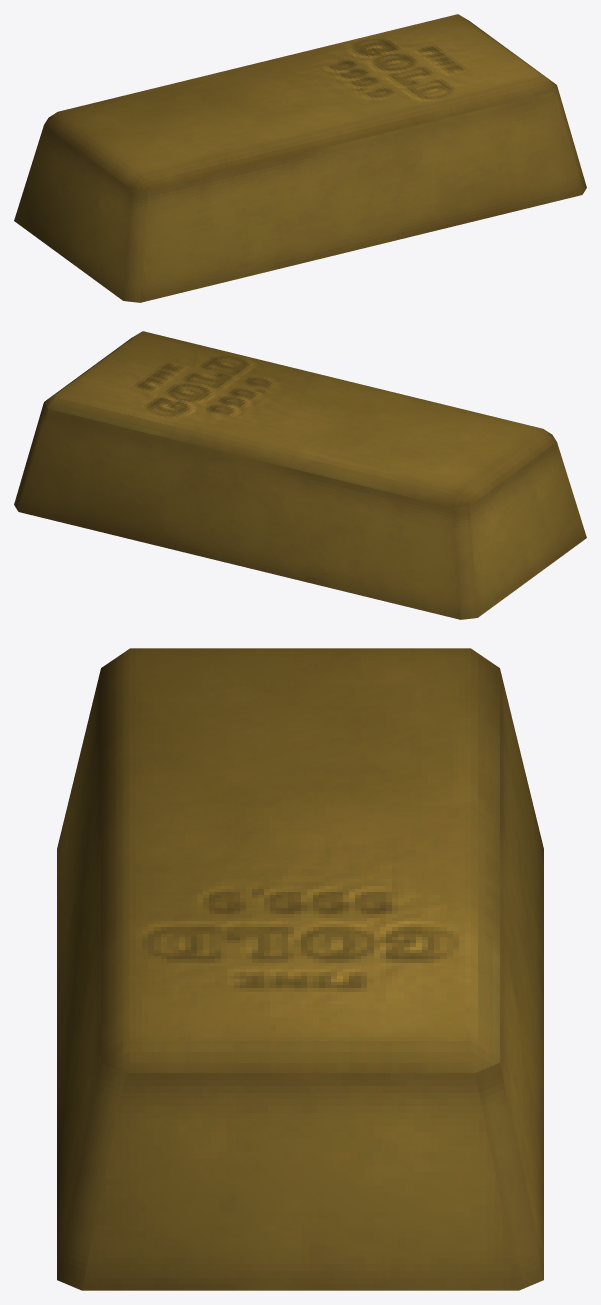
Rendered from gold_bar_pcs_1.glb.
The picture shows the model from 3 angles, top to bottom: view 1: azimuth 30°, elevation 25°; view 2: azimuth 150°, elevation 25°; view 3: azimuth 270°, elevation 25°; orthographic projection. The views are drawn at different scales.
Parts seen in each view (by area): view 1: gold_bar_pcs_1; view 2: gold_bar_pcs_1; view 3: gold_bar_pcs_1.
Boxes of the visible parts, x1,y1,x2,y2 form: gold_bar_pcs_1: [14, 14, 586, 302]; gold_bar_pcs_1: [14, 331, 586, 619]; gold_bar_pcs_1: [57, 648, 543, 1290].
Bounding box in the file's own units: 0.22 × 0.05 × 0.1.
Materials: 1 (1 with a texture image).
